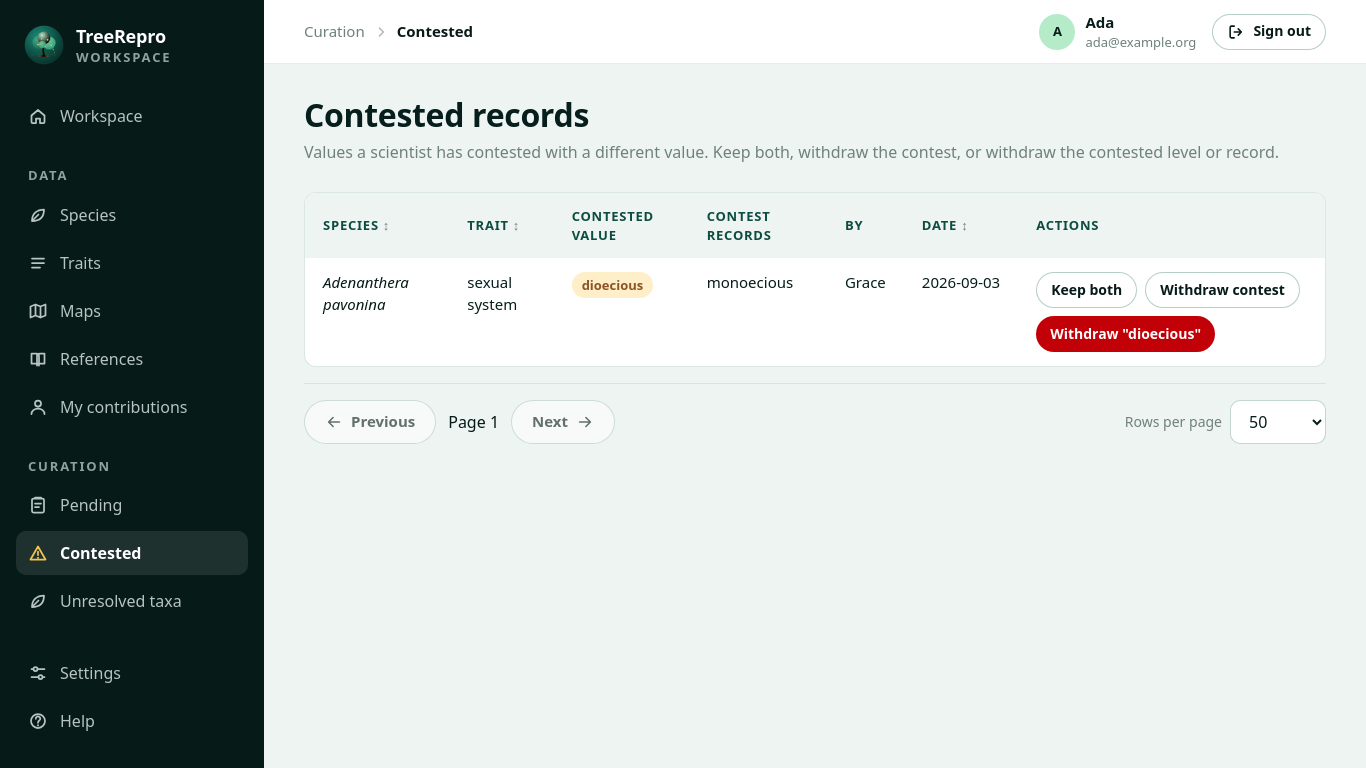
Test: RFC-65 R10 DisputedPage is the contested queue › lists a categorical contest: species, trait, contested level (marked), contest record, by, date
The width and height of the screenshot is (1366, 768).
expect the heading "Contested records" is shown: met, box [304,93,589,136]
expect the row that starts with "Adenanthera pavonina" shows "sexual system": met, box [467,272,517,314]
Click the button "monoecious".
click(750, 283)  # box [707,272,793,294]
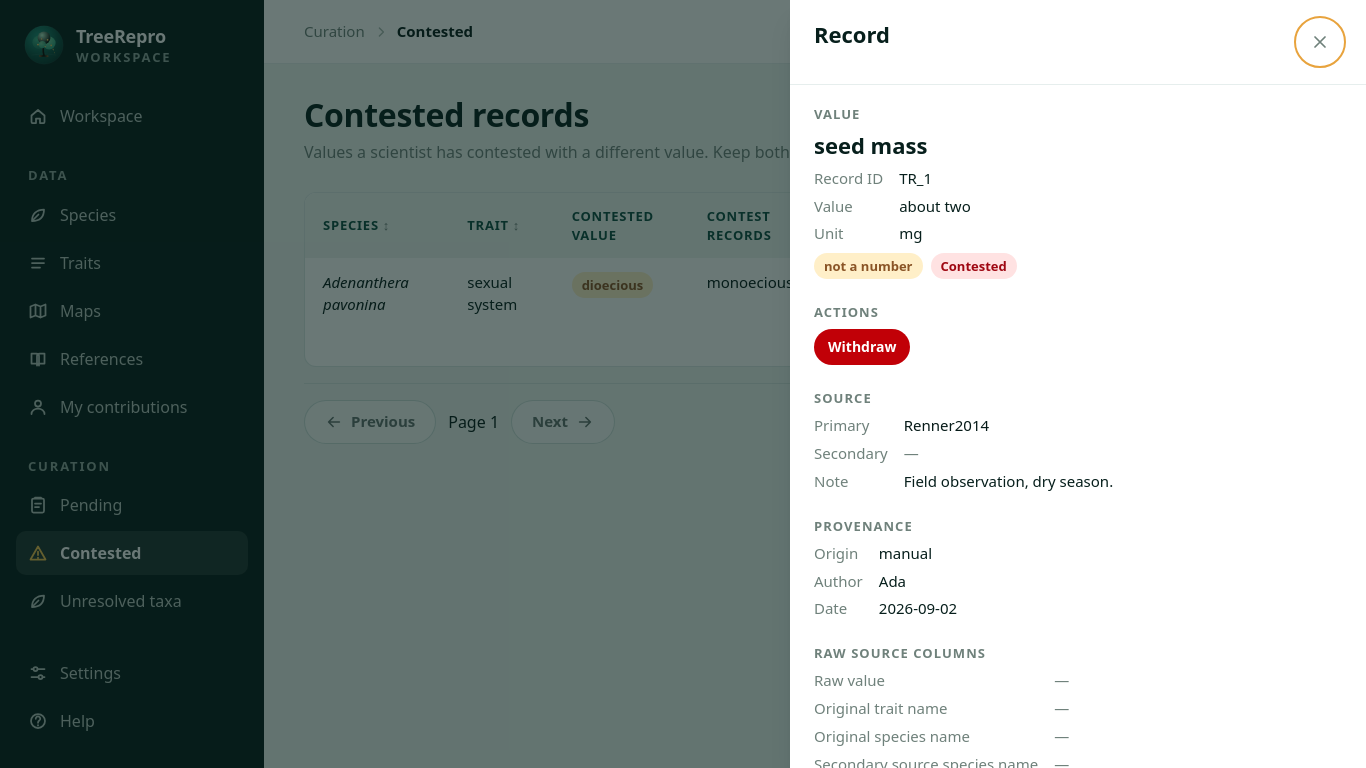
expect the dialog "Record" is shown: met, box [790,0,1365,767]
